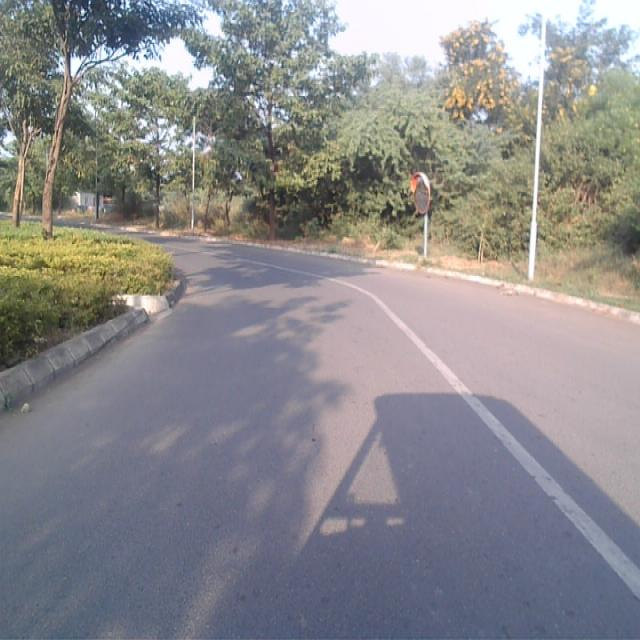lane: (0, 255, 640, 640)
